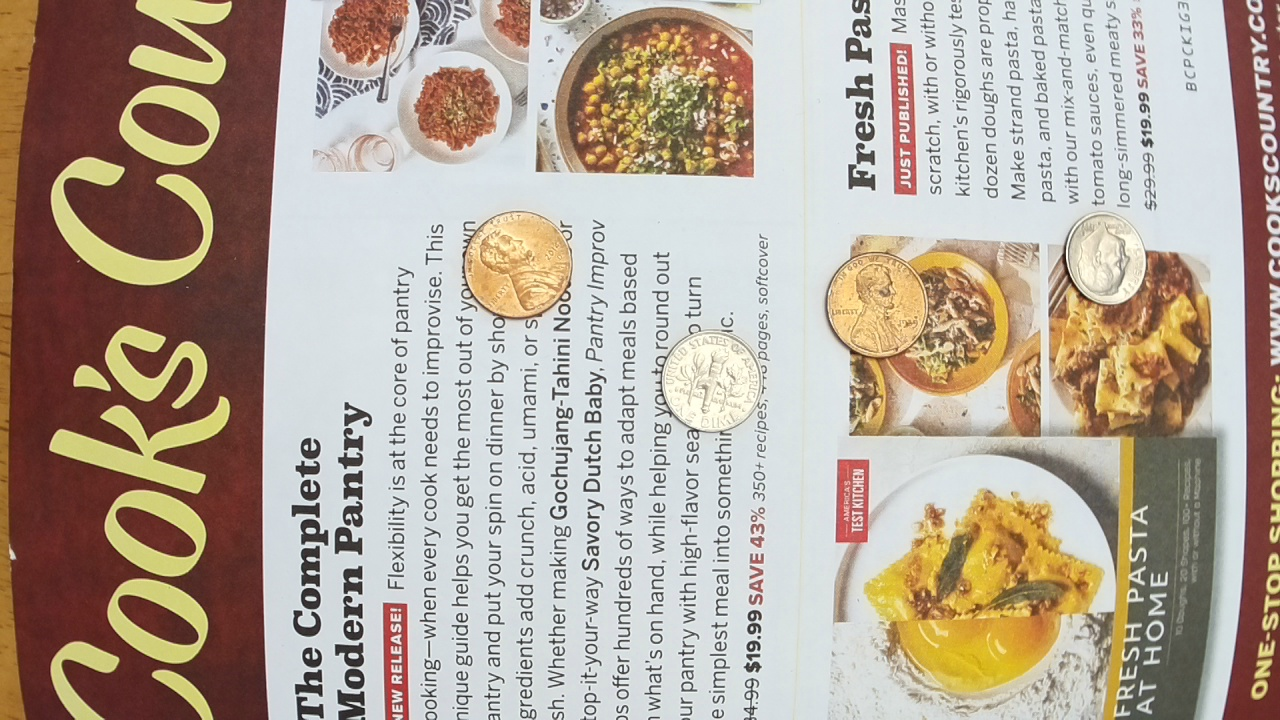dime: (658, 328, 766, 432), (1060, 211, 1150, 307)
penny: (460, 209, 574, 319), (821, 251, 931, 359)
